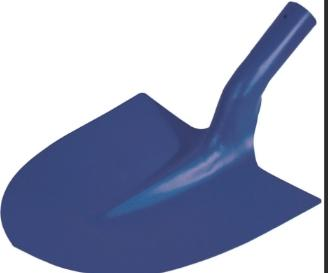PELLE: (0, 0, 320, 273)
